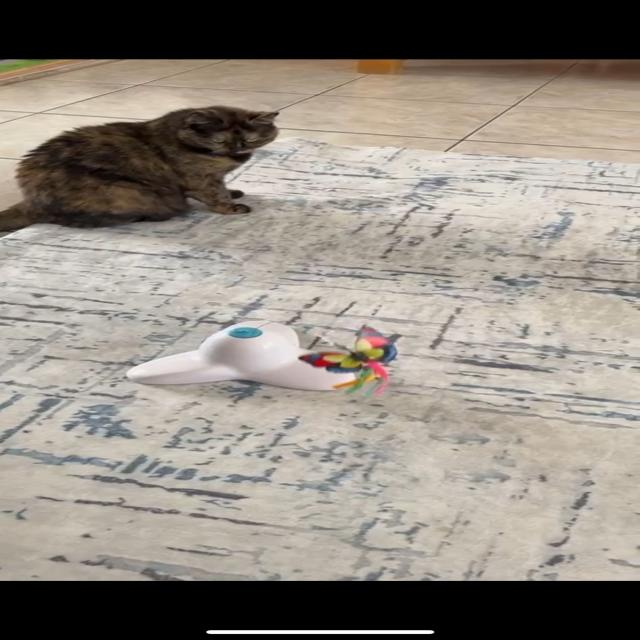authorized: (0, 105, 280, 232)
